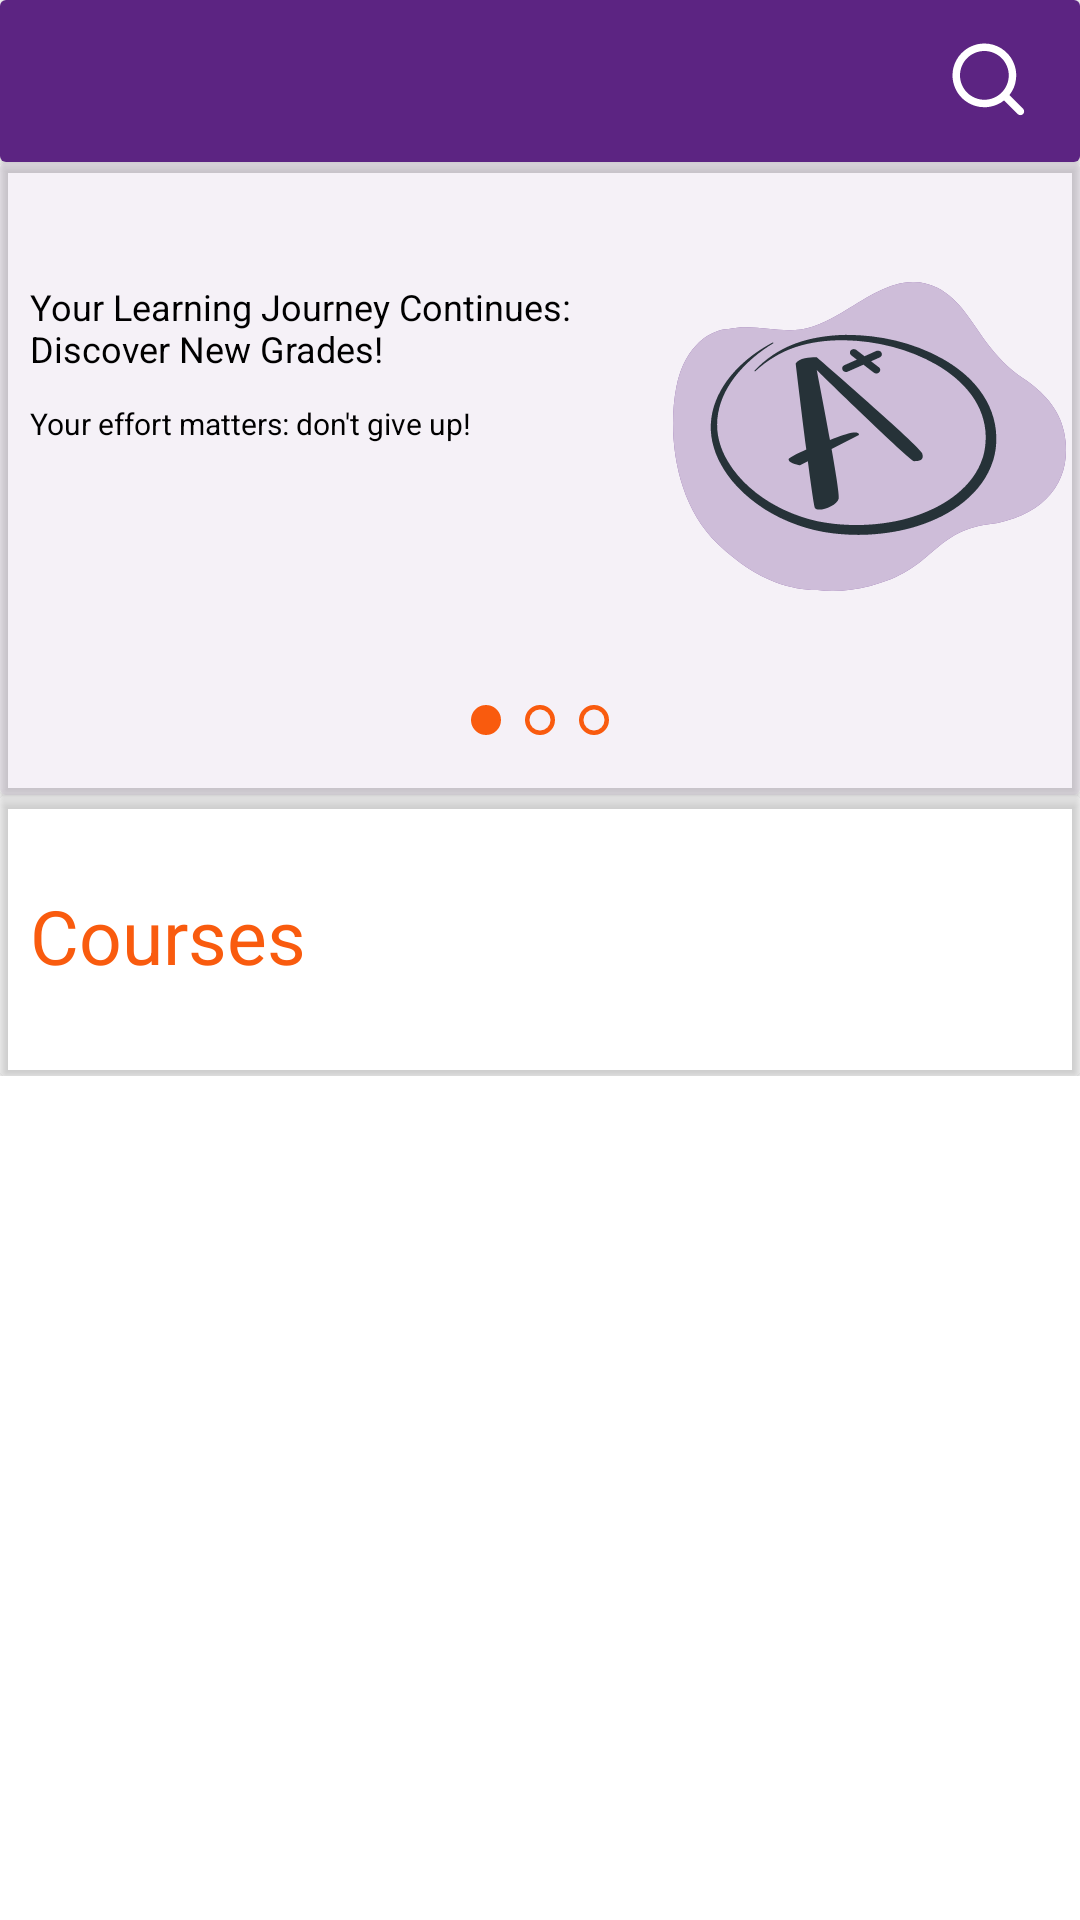

Point at icon controls on the screen. Image size 1080×1920, points as [x,y].
search: [988,79]
